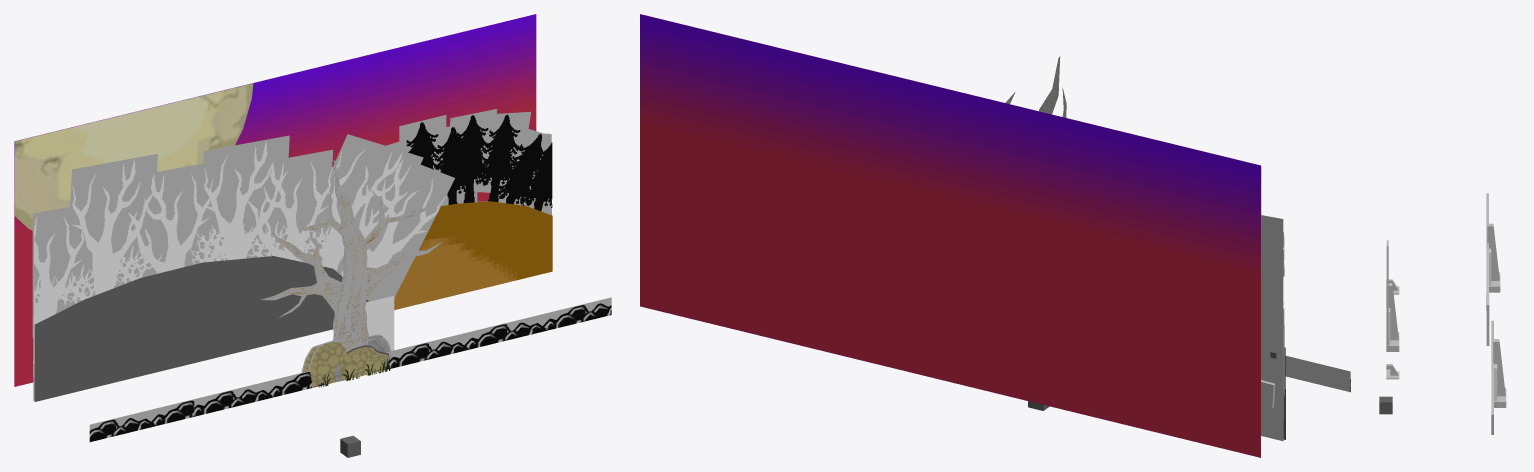
The model's file is stg_04_0_bake.dae.
3 views of the same model, side by side, from view 1: azimuth 30°, elevation 25°; view 2: azimuth 150°, elevation 25°; view 3: azimuth 270°, elevation 25° (orthographic). The views are drawn at different scales.
Visible parts, largest first — view 1: pPlane450_q00157, polySurface972_q00103, pCylinder27_q00156, polySurface963_q00136, polySurface1267_q00029_part1, polySurface959_q00037, polySurface953_q00114, polySurface953_q00113, polySurface953_q00118, polySurface953_q00115, polySurface953_q00116, polySurface953_q00091 (+31 smaller); view 2: pPlane450_q00157, polySurface953_q00112, polySurface959_q00036, polySurface972_q00126; view 3: pCube24_q00082, pCube24_q00079, pCube24_q00027, polySurface1250_q00085, polySurface1253_q00028, polySurface1250_q00086, pCube25_q00000, polySurface1250_q00087, pCube22_q00025.
Part boxes in pixels (x1,y1,x2,y2): pPlane450_q00157: [14, 14, 536, 386]; polySurface972_q00103: [34, 256, 368, 401]; pCylinder27_q00156: [14, 83, 253, 230]; polySurface963_q00136: [367, 201, 552, 309]; polySurface1267_q00029_part1: [261, 160, 442, 351]; polySurface959_q00037: [89, 303, 611, 441]; polySurface953_q00114: [201, 135, 289, 216]; polySurface953_q00113: [67, 154, 157, 258]; polySurface953_q00118: [124, 161, 213, 264]; polySurface953_q00115: [312, 134, 423, 244]; polySurface953_q00116: [354, 153, 454, 297]; polySurface953_q00091: [72, 160, 155, 295]; pPlane450_q00157: [640, 14, 1260, 457]; polySurface953_q00112: [1261, 215, 1283, 367]; polySurface959_q00036: [1285, 356, 1350, 392]; polySurface972_q00126: [1261, 349, 1283, 441]; pCube24_q00082: [1493, 339, 1505, 396]; pCube24_q00079: [1487, 223, 1499, 280]; pCube24_q00027: [1386, 283, 1398, 340]; polySurface1250_q00085: [1491, 320, 1493, 434]; polySurface1253_q00028: [1386, 240, 1388, 345]; polySurface1250_q00086: [1486, 193, 1488, 309]; pCube25_q00000: [1379, 396, 1392, 414]; polySurface1250_q00087: [1486, 293, 1489, 345]; pCube22_q00025: [1386, 332, 1399, 351].
Size of what is drawn, in the model's own units: 40.04 by 23.5 by 10.5.
